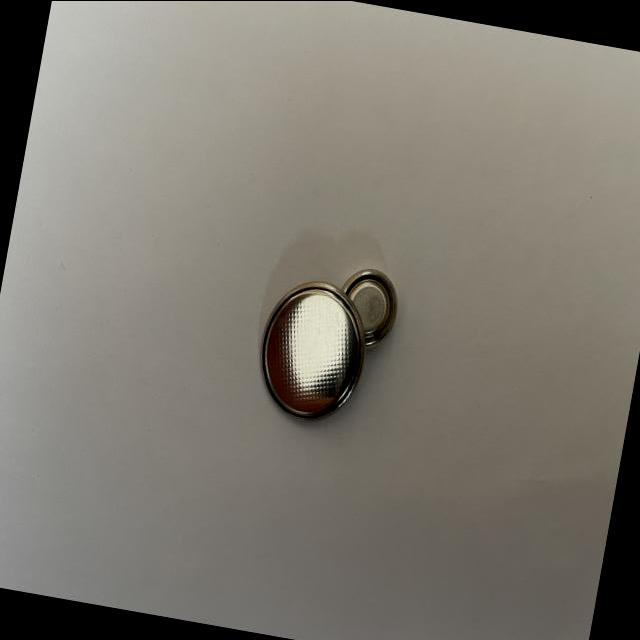COIN: (248, 275, 374, 430), (330, 264, 404, 354)
